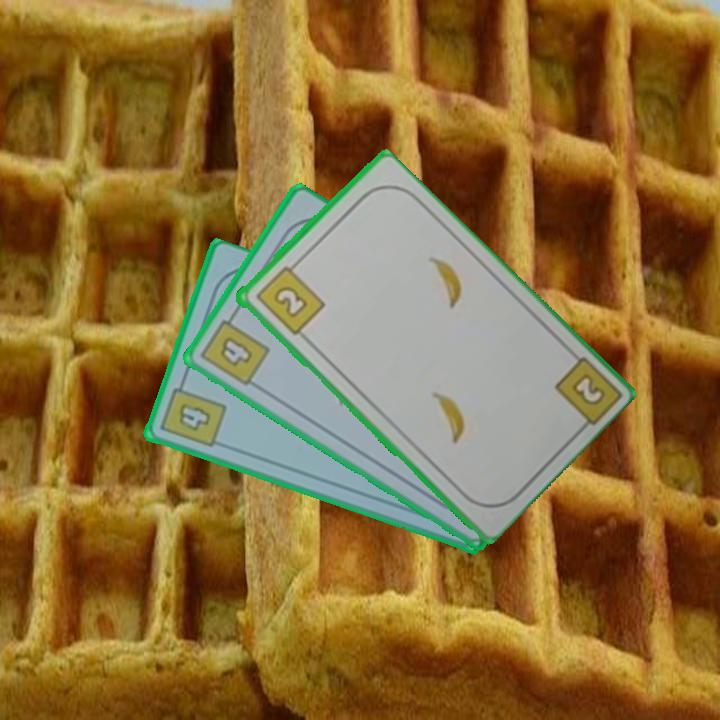2b: (251, 258, 327, 338), (567, 369, 608, 409)
4b: (196, 308, 273, 389), (157, 375, 230, 451)
